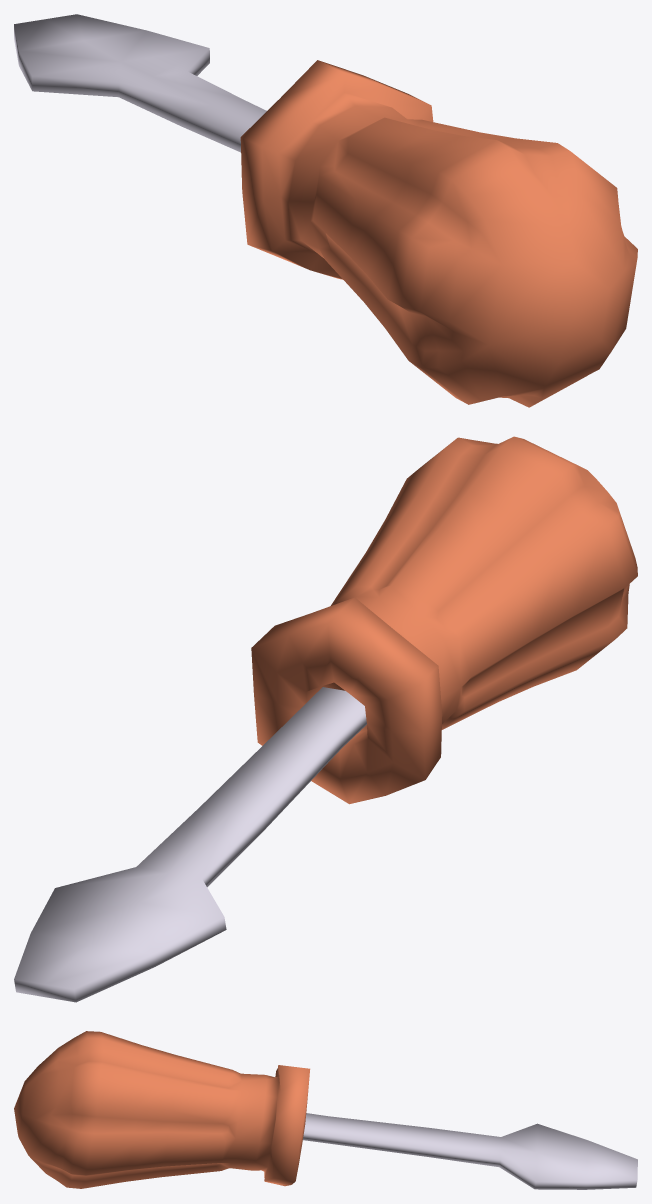
File: props_screwdriver.fbx
3 renders of one model, top to bottom at view 1: azimuth 30°, elevation 25°; view 2: azimuth 150°, elevation 25°; view 3: azimuth 270°, elevation 25°, orthographic. The views are drawn at different scales.
Visible parts, largest first — view 1: manche; view 2: manche; view 3: manche.
Part boxes in pixels (bbox=[...]): manche: bbox=[14, 14, 637, 407]; manche: bbox=[14, 436, 637, 1002]; manche: bbox=[14, 1031, 637, 1189].
Size of the model in its own units: 0.2321 by 0.9111 by 0.2384.
